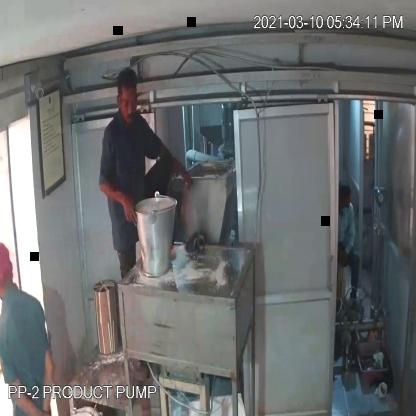no_glove: (99, 158, 138, 235)
